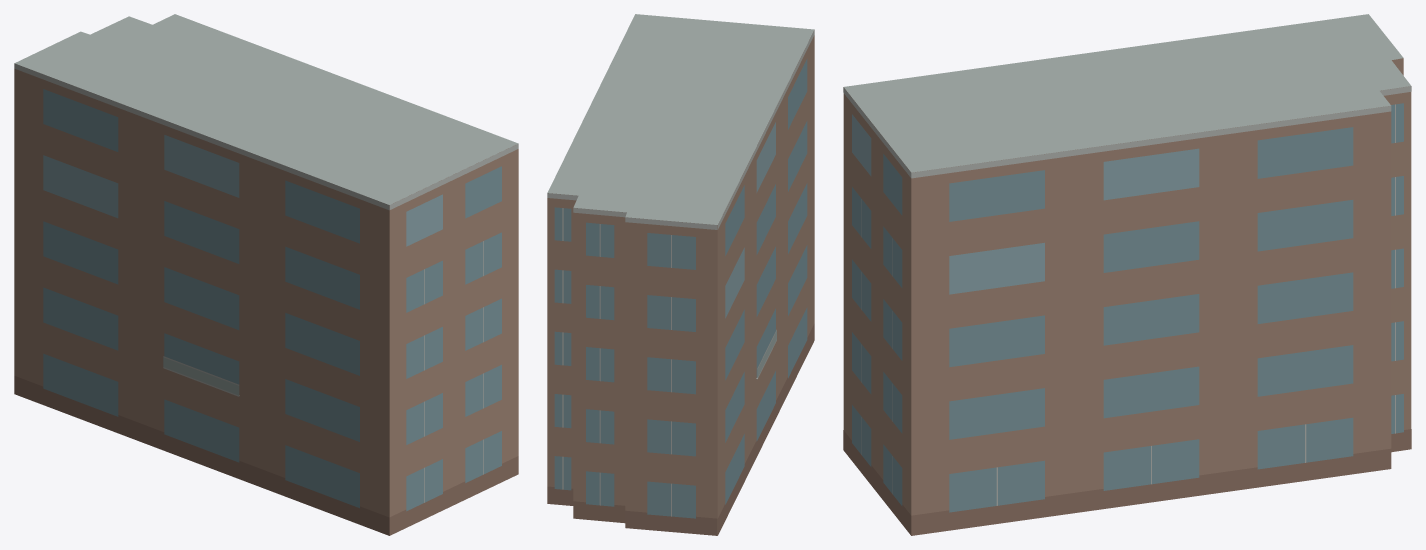
The model's file is survey-upis-32703338.glb.
The picture shows the model from 3 angles, left to right: view 1: azimuth 30°, elevation 25°; view 2: azimuth 150°, elevation 25°; view 3: azimuth 270°, elevation 25°; orthographic projection. The views are drawn at different scales.
Parts seen in each view (by area): view 1: survey-upis-32703338.tmp; view 2: survey-upis-32703338.tmp; view 3: survey-upis-32703338.tmp.
Part boxes in pixels (x1,y1,x2,y2): survey-upis-32703338.tmp: [14, 14, 518, 535]; survey-upis-32703338.tmp: [547, 14, 814, 535]; survey-upis-32703338.tmp: [843, 14, 1411, 535].
Bounding box in the file's own units: 14.29 × 15.25 × 21.62.
